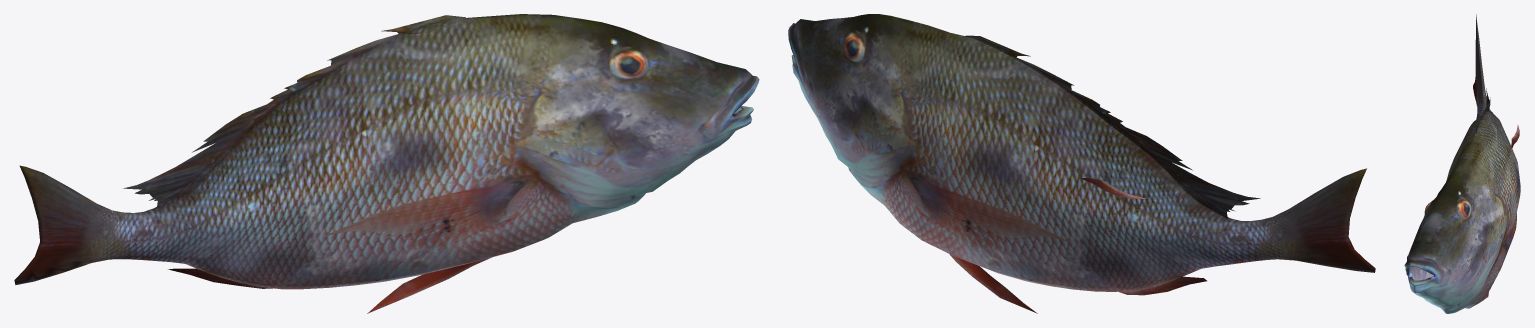
File: fish-bad.gltf
The picture shows the model from 3 angles, left to right: view 1: azimuth 30°, elevation 25°; view 2: azimuth 150°, elevation 25°; view 3: azimuth 270°, elevation 25°; orthographic projection. The views are drawn at different scales.
Parts seen in each view (by area): view 1: mk_fish_bad; view 2: mk_fish_bad; view 3: mk_fish_bad.
Part boxes in pixels (x1=…): mk_fish_bad: x1=14, y1=14, x2=759, y2=313; mk_fish_bad: x1=788, y1=14, x2=1375, y2=313; mk_fish_bad: x1=1404, y1=14, x2=1520, y2=313.
Bounding box in the file's own units: 1.06 × 0.416 × 0.2324.
1 material, 1 textured.
